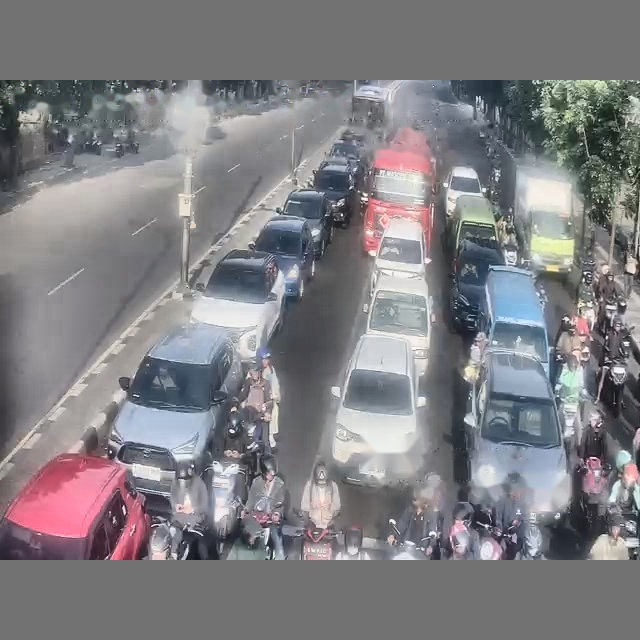Mobil: (107, 324, 243, 497), (464, 348, 571, 521), (0, 453, 150, 559), (331, 334, 425, 484), (191, 249, 285, 362), (363, 275, 431, 377), (249, 214, 315, 299), (449, 239, 504, 331), (370, 218, 430, 293), (276, 189, 333, 258), (313, 162, 359, 227), (442, 166, 485, 215), (318, 155, 364, 188), (318, 156, 358, 176), (328, 140, 361, 161)
Motor: (208, 458, 250, 553), (598, 331, 630, 416), (579, 457, 610, 536), (389, 519, 438, 559), (175, 526, 205, 559)
